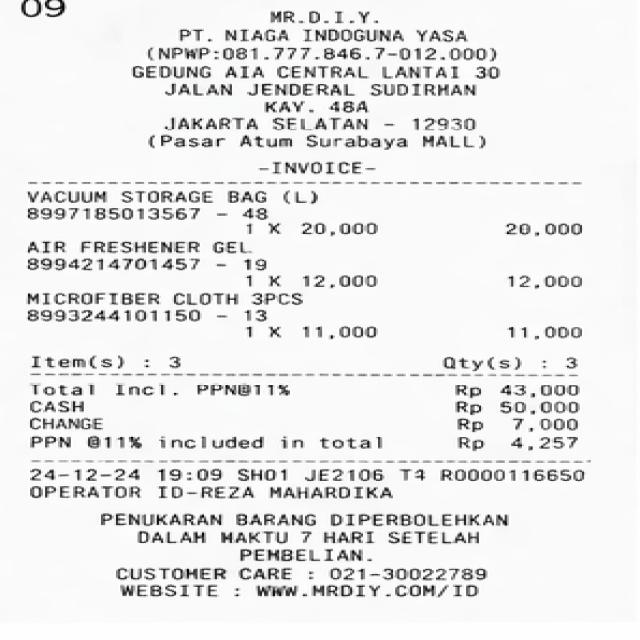date: (23, 464, 236, 486)
store: (258, 8, 390, 28)
total: (24, 378, 582, 402)
